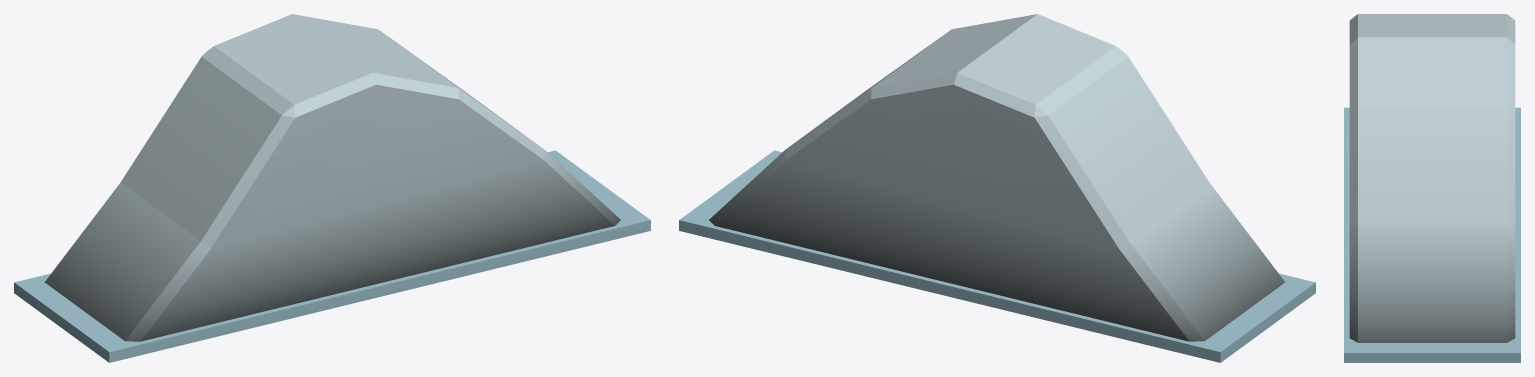
File: Winter_Iceberg1.fbx
The picture shows the model from 3 angles, left to right: view 1: azimuth 30°, elevation 25°; view 2: azimuth 150°, elevation 25°; view 3: azimuth 270°, elevation 25°; orthographic projection. The views are drawn at different scales.
Parts seen in each view (by area): view 1: Winter_Iceberg1; view 2: Winter_Iceberg1; view 3: Winter_Iceberg1.
Boxes of the visible parts, x1,y1,x2,y2 form: Winter_Iceberg1: (14, 14, 650, 362); Winter_Iceberg1: (679, 14, 1315, 362); Winter_Iceberg1: (1344, 14, 1520, 362).
Bounding box in the file's own units: 10.5 × 4.05 × 3.2.
